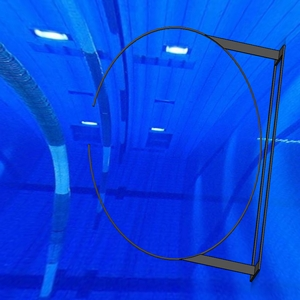circle: (87, 26, 286, 284)
